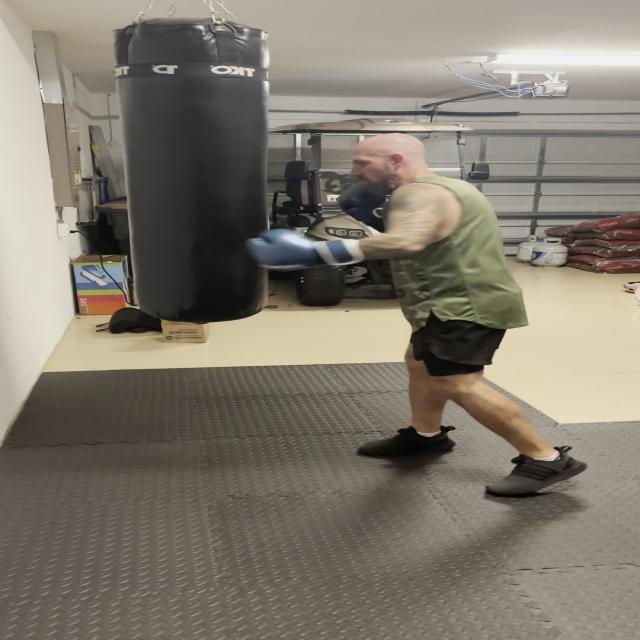bag: (115, 14, 272, 327)
hook: (243, 124, 524, 304)
